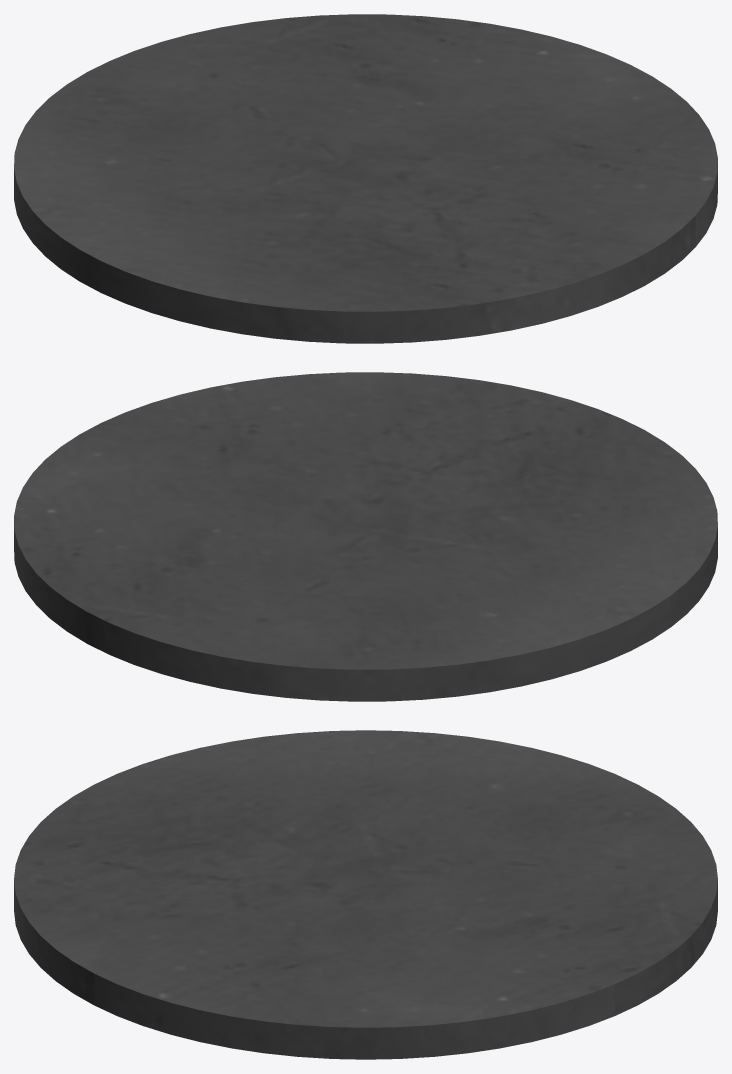
The model's file is CirclePedestal.gltf.
The picture shows the model from 3 angles, top to bottom: view 1: azimuth 30°, elevation 25°; view 2: azimuth 150°, elevation 25°; view 3: azimuth 270°, elevation 25°; orthographic projection.
Parts seen in each view (by area): view 1: 円柱; view 2: 円柱; view 3: 円柱.
Part boxes in pixels (x1,y1,x2,y2): 円柱: [14, 14, 717, 343]; 円柱: [14, 372, 717, 701]; 円柱: [14, 730, 717, 1059].
Size of the model in its own units: 10 by 0.5 by 10.
1 material, 1 textured.
